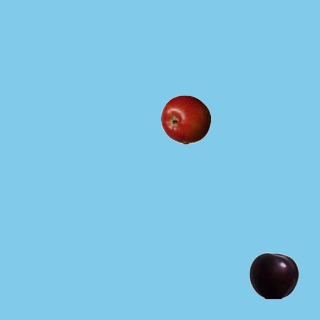Apple Braeburn: (160, 94, 210, 144)
Cherry Wax Black: (248, 250, 298, 300)
